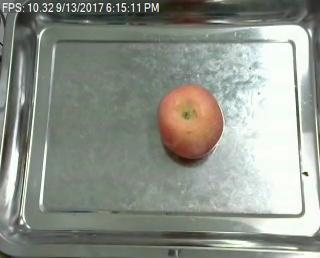apple: (157, 84, 226, 161)
